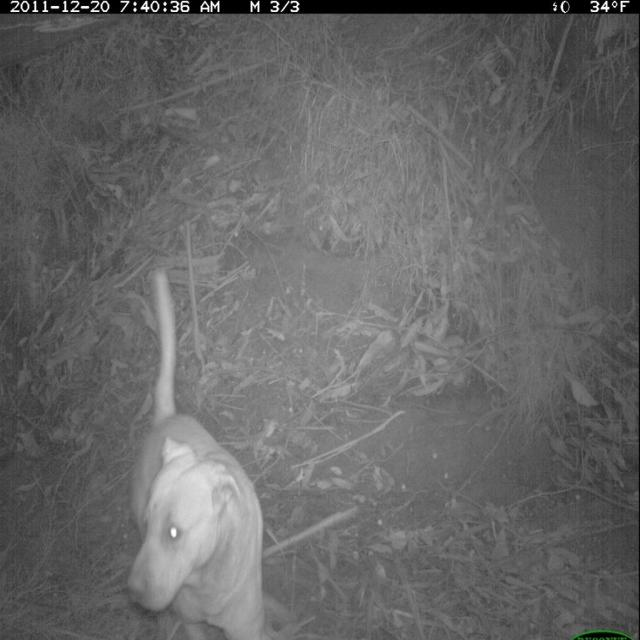dog: (121, 260, 271, 640)
